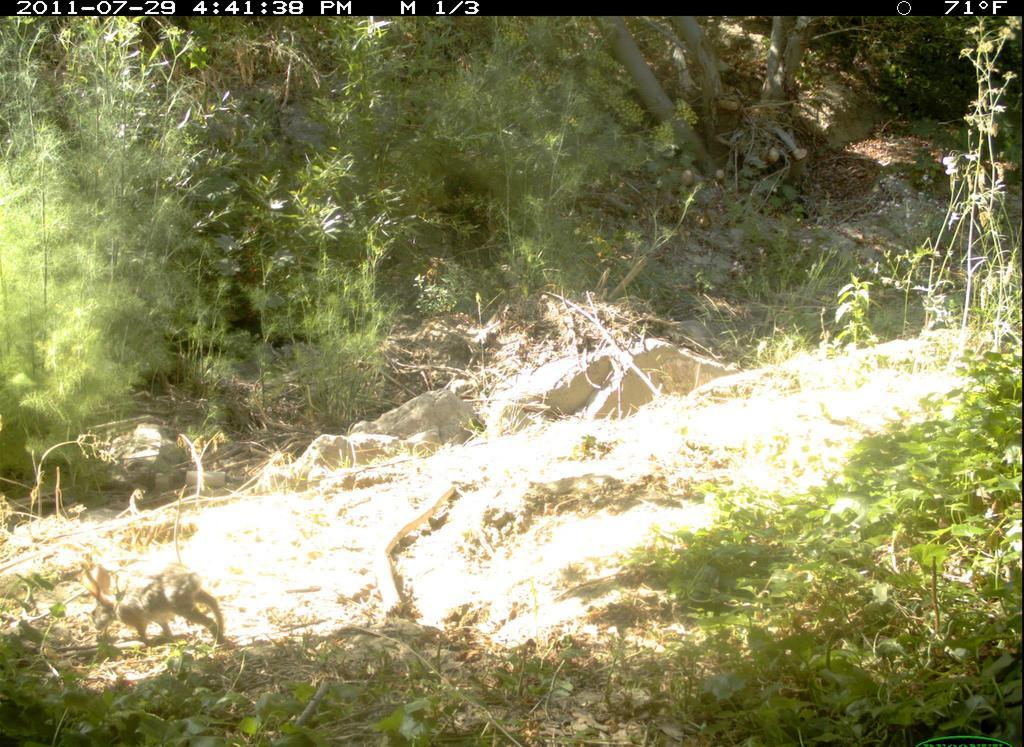rabbit: (59, 555, 242, 656)
